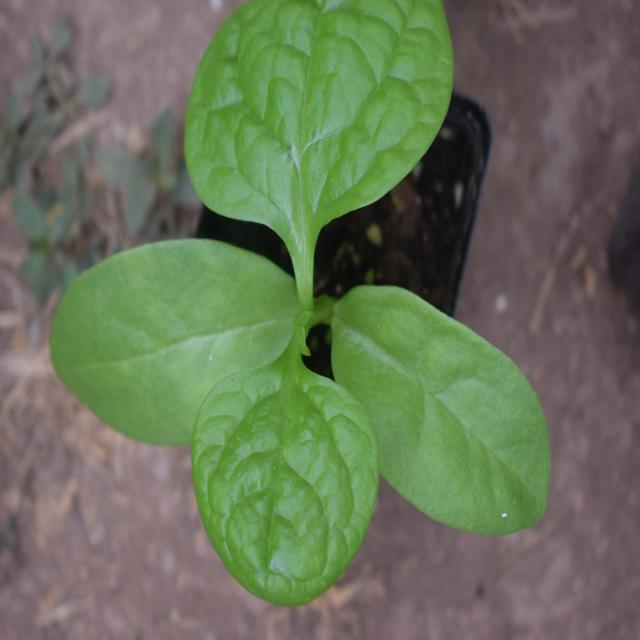Ceylon spinach: (45, 0, 528, 601)
